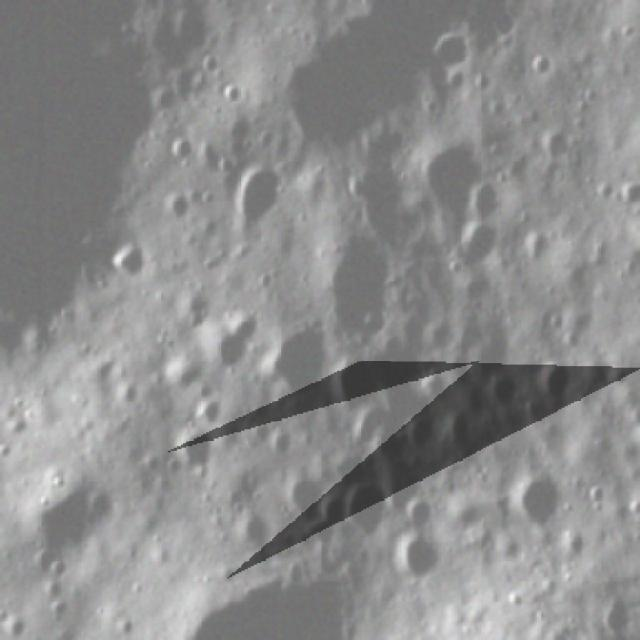crater: (164, 577, 356, 640), (14, 479, 108, 587), (314, 235, 401, 348), (254, 333, 340, 410), (416, 135, 484, 231), (349, 161, 408, 256), (504, 465, 574, 541), (228, 156, 288, 239), (196, 303, 266, 371), (466, 313, 522, 395), (320, 360, 385, 422), (388, 532, 449, 586), (455, 220, 511, 275), (343, 479, 392, 541), (536, 356, 584, 418), (278, 470, 328, 528), (167, 429, 216, 482), (426, 26, 474, 77), (534, 127, 583, 175), (104, 238, 154, 284), (397, 487, 443, 536), (155, 183, 197, 234), (191, 392, 234, 436), (408, 407, 443, 459), (440, 405, 474, 458), (160, 132, 203, 172), (216, 75, 250, 114), (528, 47, 560, 85)
